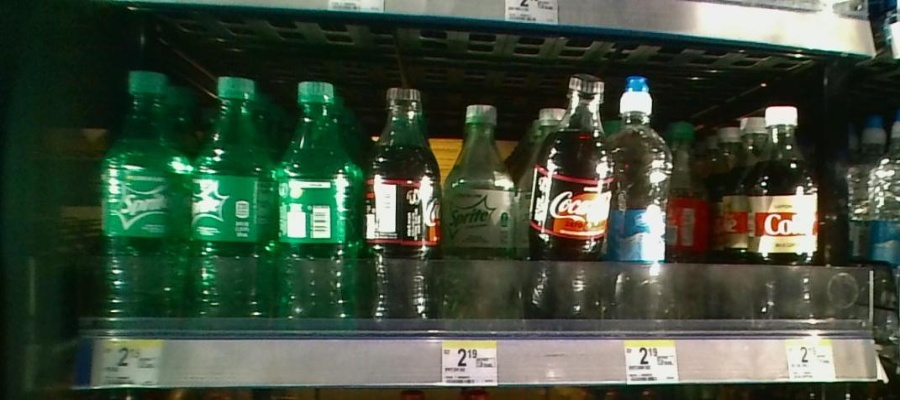bottle: (98, 49, 191, 327), (279, 73, 361, 330), (196, 62, 276, 325), (531, 75, 613, 323), (364, 79, 445, 327), (447, 96, 518, 324), (747, 101, 819, 325), (614, 68, 673, 338), (673, 113, 708, 337)
